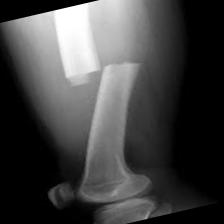transverse-fracture: (4, 0, 213, 224)
